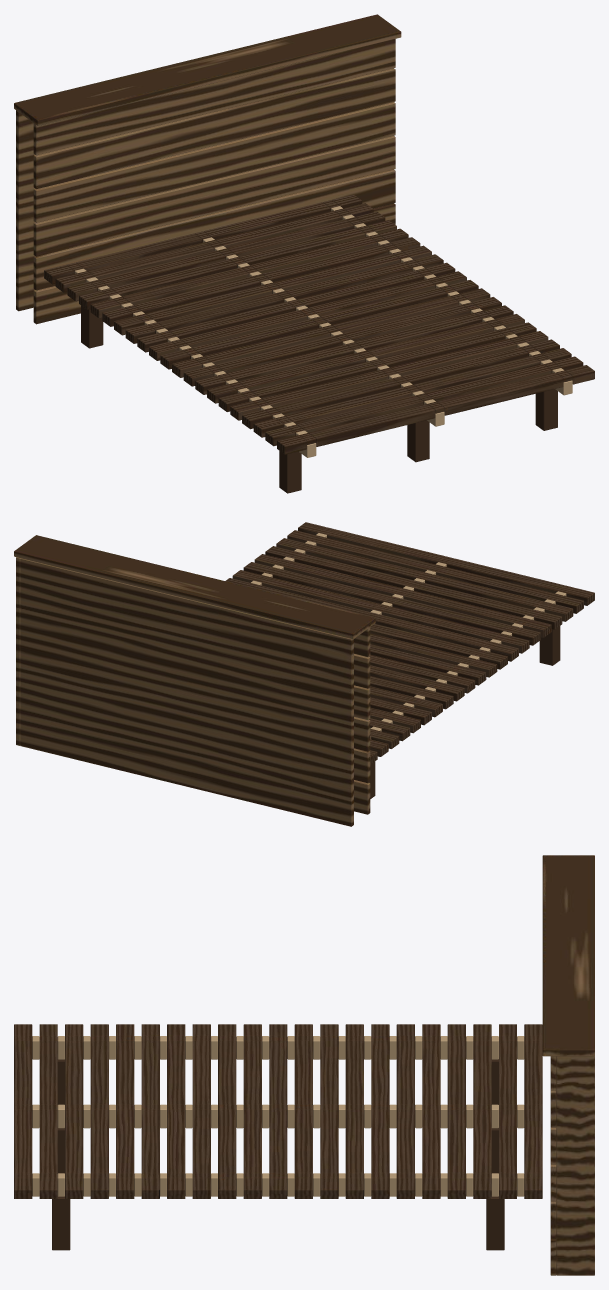
File: bed.glb
3 views of the same model, one above another, from view 1: azimuth 30°, elevation 25°; view 2: azimuth 150°, elevation 25°; view 3: azimuth 270°, elevation 25° (orthographic). The views are drawn at different scales.
Parts seen in each view (by area): view 1: Bett_Latten_gebeizt, Bett_Kopfteil_Fichte, Bett_Fuesse_gebeizt, Bett_Traeger_hell; view 2: Bett_Kopfteil_Fichte, Bett_Latten_gebeizt, Bett_Traeger_hell, Bett_Fuesse_gebeizt; view 3: Bett_Latten_gebeizt, Bett_Kopfteil_Fichte, Bett_Traeger_hell, Bett_Fuesse_gebeizt.
Boxes of the visible parts, x1,y1,x2,y2 form: Bett_Latten_gebeizt: (44,194,594,454); Bett_Kopfteil_Fichte: (14,14,401,324); Bett_Fuesse_gebeizt: (81,305,557,493); Bett_Traeger_hell: (74,206,572,457); Bett_Kopfteil_Fichte: (14,535,375,826); Bett_Latten_gebeizt: (225,522,594,764); Bett_Traeger_hell: (251,533,566,738); Bett_Fuesse_gebeizt: (369,626,560,798); Bett_Latten_gebeizt: (14,1024,542,1198); Bett_Kopfteil_Fichte: (542,855,594,1275); Bett_Traeger_hell: (32,1036,524,1196); Bett_Fuesse_gebeizt: (52,1059,504,1250).
Bounding box in the file's own units: 1.76 × 0.998 × 2.22.
4 materials, 2 textured.
